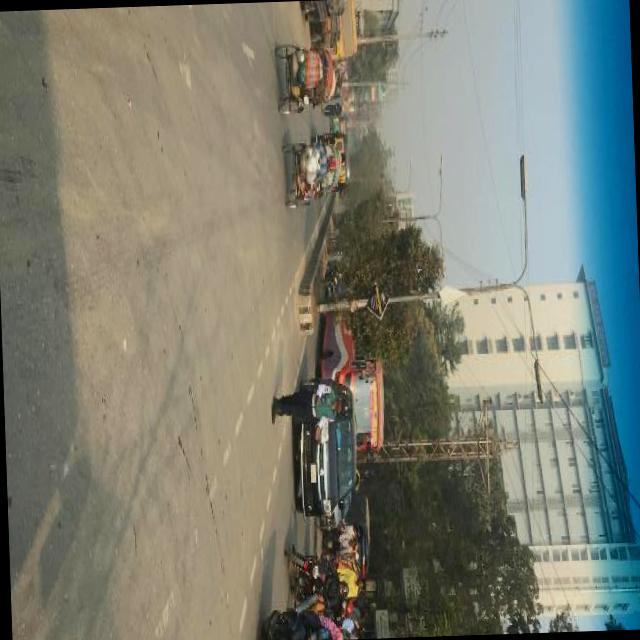bus: (319, 311, 385, 459)
car: (344, 494, 371, 588), (321, 489, 353, 528)
motorcycle: (274, 38, 335, 114), (281, 138, 345, 210), (283, 544, 351, 610), (267, 608, 340, 638), (336, 553, 360, 602), (328, 115, 346, 132)
truck: (291, 374, 358, 520), (312, 132, 350, 198), (330, 0, 367, 58), (308, 15, 342, 46), (300, 0, 343, 20)
